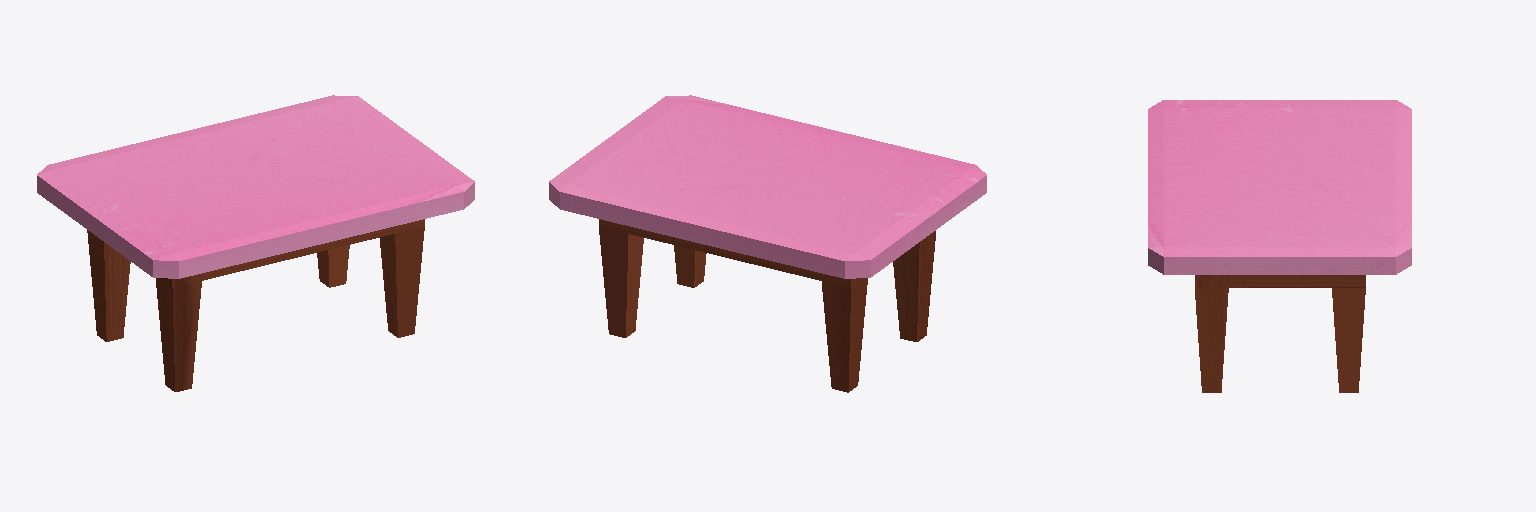
3 renders of one model, left to right at view 1: azimuth 30°, elevation 25°; view 2: azimuth 150°, elevation 25°; view 3: azimuth 270°, elevation 25°, orthographic.
Parts seen in each view (by area): view 1: tabletop, table_legs; view 2: tabletop, table_legs; view 3: tabletop, table_legs.
Part boxes in pixels (x1,y1,x2,y2): tabletop: (37, 95, 474, 278); table_legs: (87, 219, 424, 391); tabletop: (549, 95, 986, 278); table_legs: (599, 219, 935, 392); tabletop: (1148, 100, 1411, 274); table_legs: (1195, 275, 1365, 392).
Size of the model in its own units: 5.08 by 2.37 by 3.6.
Materials: 2 (2 with a texture image).